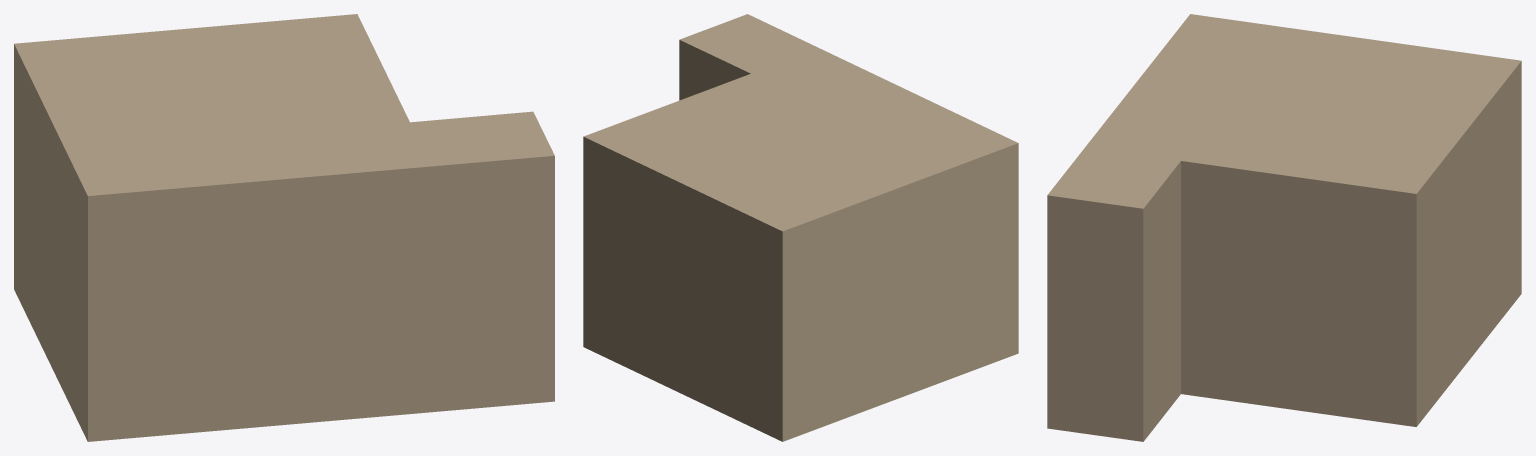
Rendered from bld_101524543.dae.
The picture shows the model from 3 angles, left to right: view 1: azimuth 30°, elevation 25°; view 2: azimuth 150°, elevation 25°; view 3: azimuth 270°, elevation 25°; orthographic projection. The views are drawn at different scales.
Parts seen in each view (by area): view 1: bld_101524543; view 2: bld_101524543; view 3: bld_101524543.
Part boxes in pixels (x1,y1,x2,y2): bld_101524543: [14, 14, 554, 441]; bld_101524543: [583, 14, 1018, 441]; bld_101524543: [1047, 14, 1521, 441].
Size of the model in its own units: 14.33 by 14.75 by 8.
